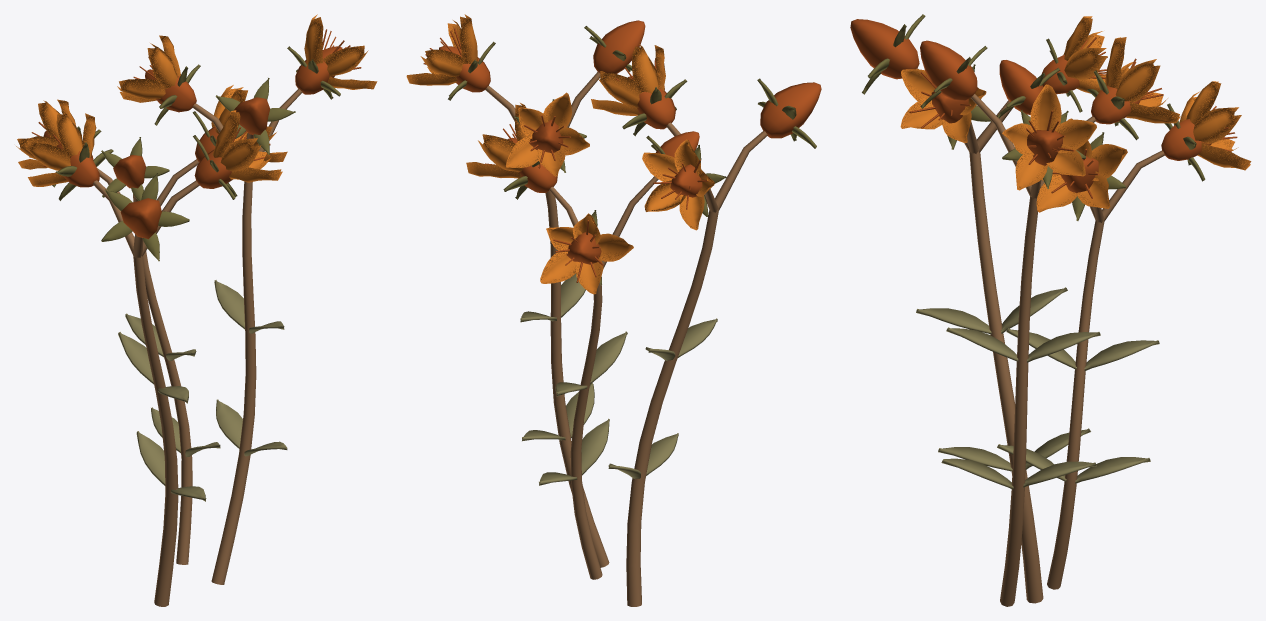
The model's file is чай4вруке.fbx.
The picture shows the model from 3 angles, left to right: view 1: azimuth 30°, elevation 25°; view 2: azimuth 150°, elevation 25°; view 3: azimuth 270°, elevation 25°; orthographic projection. The views are drawn at different scales.
Parts seen in each view (by area): view 1: Зверобой_Веточка_1, Зверобой_Веточка_2, Зверобой_Веточка_3, Зверобой_Цветок_2, Зверобой_Цветок_1, Зверобой_Цветок_4, Зверобой_Цветок_5, Зверобой_Коробочка_3, Зверобой_Коробочка_6, Зверобой_Коробочка_9, Зверобой_Цветок_8, Зверобой_Цветок_7; view 2: Зверобой_Веточка_1, Зверобой_Веточка_3, Зверобой_Веточка_2, Зверобой_Цветок_1, Зверобой_Цветок_8, Зверобой_Цветок_2, Зверобой_Цветок_5, Зверобой_Цветок_4, Зверобой_Цветок_7, Зверобой_Коробочка_3, Зверобой_Коробочка_6, Зверобой_Коробочка_9; view 3: Зверобой_Веточка_2, Зверобой_Веточка_1, Зверобой_Веточка_3, Зверобой_Цветок_4, Зверобой_Цветок_8, Зверобой_Цветок_5, Зверобой_Цветок_7, Зверобой_Цветок_1, Зверобой_Цветок_2, Зверобой_Коробочка_3, Зверобой_Коробочка_6, Зверобой_Коробочка_9.
Part boxes in pixels (left/top/right/bottom): Зверобой_Веточка_1: left=93, top=180, right=206, bottom=606; Зверобой_Веточка_2: left=192, top=88, right=302, bottom=584; Зверобой_Веточка_3: left=97, top=159, right=220, bottom=564; Зверобой_Цветок_2: left=26, top=112, right=113, bottom=200; Зверобой_Цветок_1: left=193, top=110, right=282, bottom=199; Зверобой_Цветок_4: left=287, top=14, right=377, bottom=99; Зверобой_Цветок_5: left=117, top=35, right=200, bottom=125; Зверобой_Коробочка_3: left=101, top=173, right=189, bottom=261; Зверобой_Коробочка_6: left=215, top=78, right=295, bottom=154; Зверобой_Коробочка_9: left=101, top=137, right=169, bottom=200; Зверобой_Цветок_8: left=16, top=99, right=101, bottom=187; Зверобой_Цветок_7: left=192, top=85, right=287, bottom=162; Зверобой_Веточка_1: left=608, top=122, right=767, bottom=606; Зверобой_Веточка_3: left=539, top=176, right=658, bottom=579; Зверобой_Веточка_2: left=485, top=72, right=609, bottom=567; Зверобой_Цветок_1: left=591, top=44, right=687, bottom=136; Зверобой_Цветок_8: left=540, top=210, right=633, bottom=294; Зверобой_Цветок_2: left=642, top=139, right=726, bottom=230; Зверобой_Цветок_5: left=506, top=92, right=589, bottom=176; Зверобой_Цветок_4: left=406, top=14, right=495, bottom=100; Зверобой_Цветок_7: left=466, top=103, right=557, bottom=199; Зверобой_Коробочка_3: left=757, top=78, right=821, bottom=148; Зверобой_Коробочка_6: left=584, top=20, right=645, bottom=73; Зверобой_Коробочка_9: left=646, top=131, right=699, bottom=157; Зверобой_Веточка_2: left=941, top=94, right=1100, bottom=606; Зверобой_Веточка_1: left=916, top=68, right=1090, bottom=603; Зверобой_Веточка_3: left=997, top=150, right=1164, bottom=589; Зверобой_Цветок_4: left=1002, top=84, right=1096, bottom=190; Зверобой_Цветок_8: left=1161, top=81, right=1251, bottom=181; Зверобой_Цветок_5: left=1087, top=37, right=1180, bottom=140; Зверобой_Цветок_7: left=1036, top=118, right=1127, bottom=220; Зверобой_Цветок_1: left=900, top=64, right=991, bottom=149; Зверобой_Цветок_2: left=1041, top=16, right=1107, bottom=112; Зверобой_Коробочка_3: left=850, top=14, right=925, bottom=94; Зверобой_Коробочка_6: left=920, top=40, right=987, bottom=108; Зверобой_Коробочка_9: left=997, top=60, right=1060, bottom=118.
Bounding box in the file's own units: 0.9026 × 1.43 × 0.8631.
